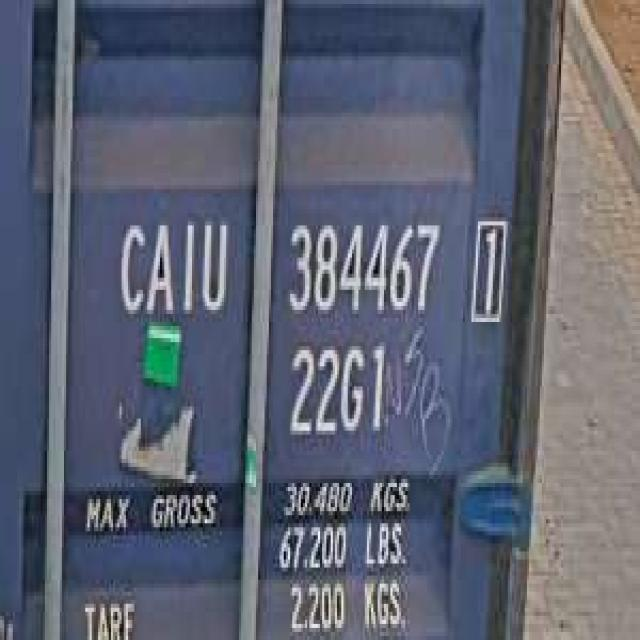dv: (465, 201, 510, 334)
owner: (109, 205, 230, 326)
serial: (282, 205, 444, 326)
size: (282, 334, 388, 447)
